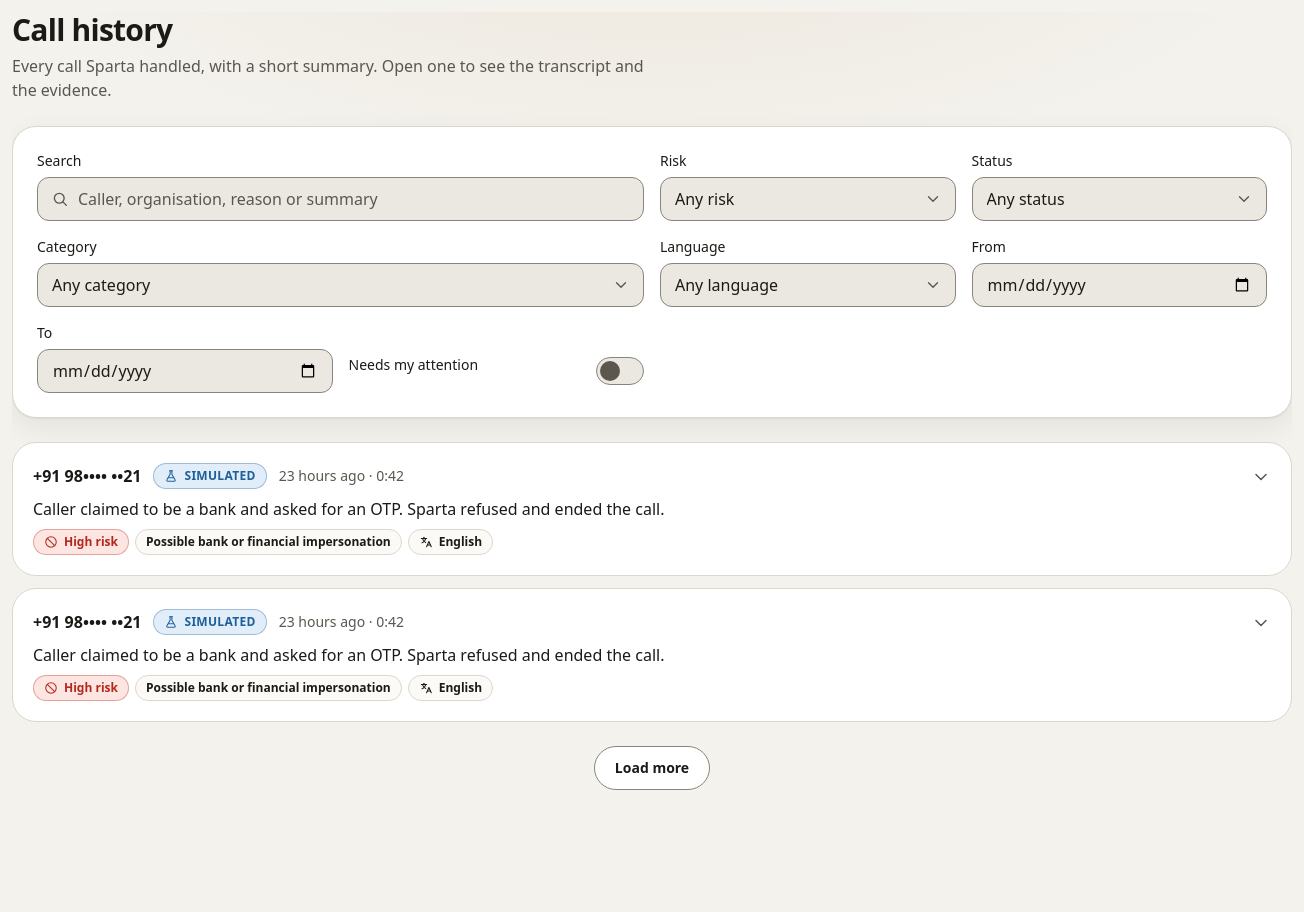
it: HistoryScreen › loads more with the cursor
Click the button with test id "load-more": point(652, 768) [594, 746, 710, 790]
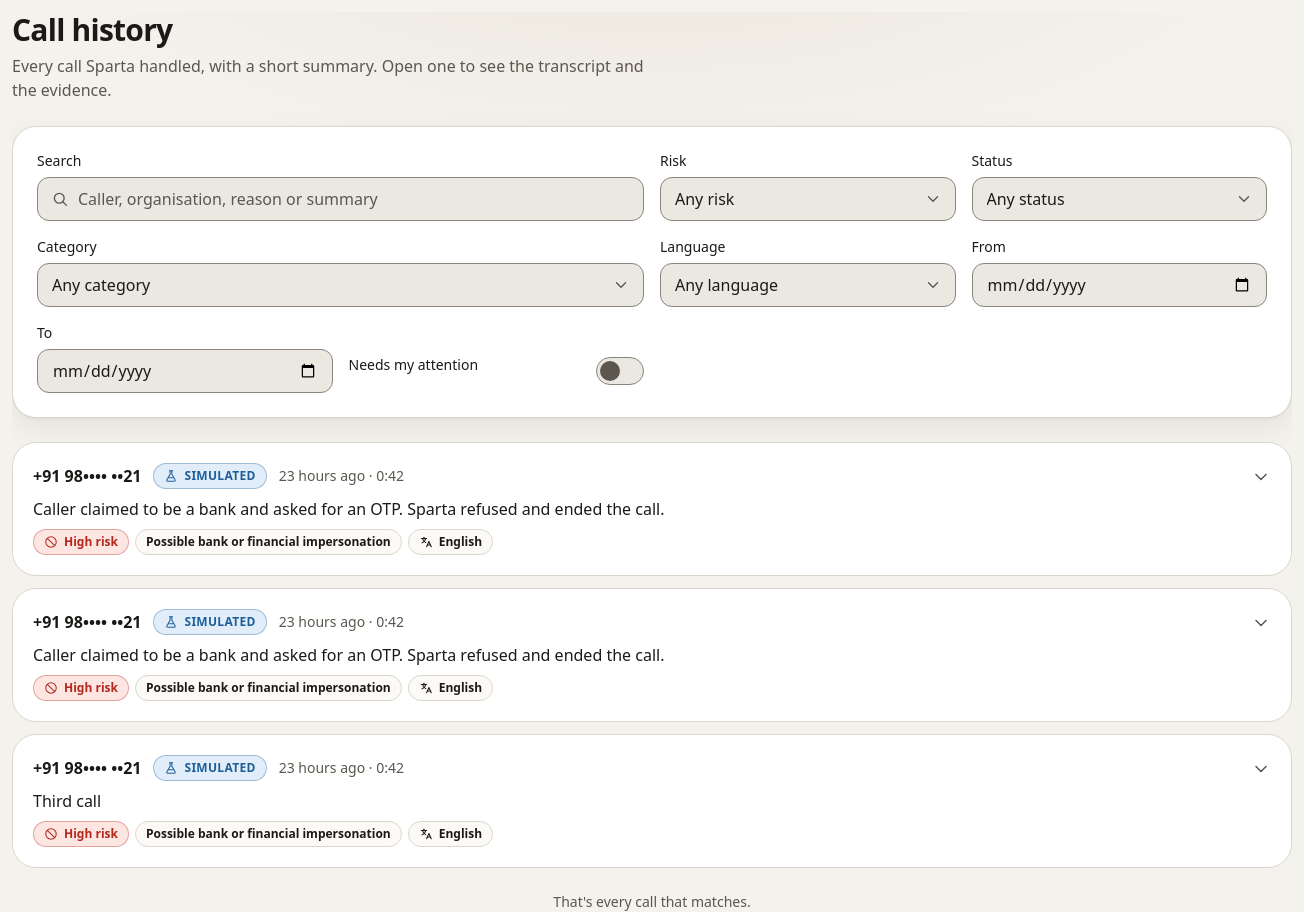
Result: the text "Third call" is shown at [33, 790, 101, 812]
Result: the number of list items with test id "history-row" is 3 at [12, 442, 1292, 576]; [12, 588, 1292, 722]; [12, 734, 1292, 868]
Result: the button with test id "load-more" is gone
